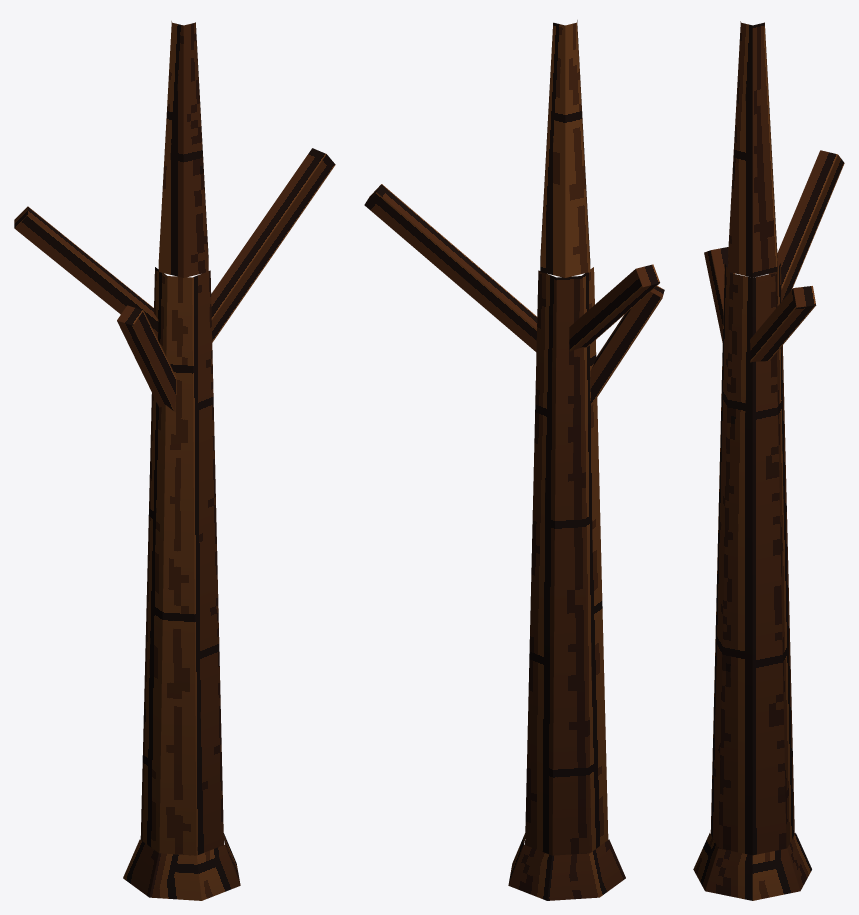
The model's file is birch_3_trunk.glb.
The picture shows the model from 3 angles, left to right: view 1: azimuth 30°, elevation 25°; view 2: azimuth 150°, elevation 25°; view 3: azimuth 270°, elevation 25°; orthographic projection.
Visible parts, largest first — view 1: birch_3_trunk; view 2: birch_3_trunk; view 3: birch_3_trunk.
Part boxes in pixels (<box>): birch_3_trunk: <box>14,21,335,900</box>; birch_3_trunk: <box>364,20,664,900</box>; birch_3_trunk: <box>693,21,844,900</box>.
Bounding box in the file's own units: 2.08 × 5.57 × 0.8931.
Materials: 1 (1 with a texture image).
